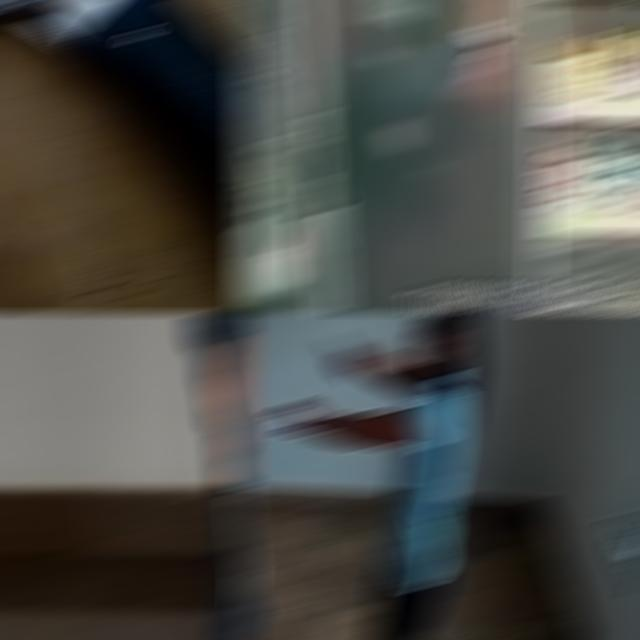Knife_Handle: (464, 2, 529, 78), (325, 334, 377, 380), (325, 338, 370, 380)
